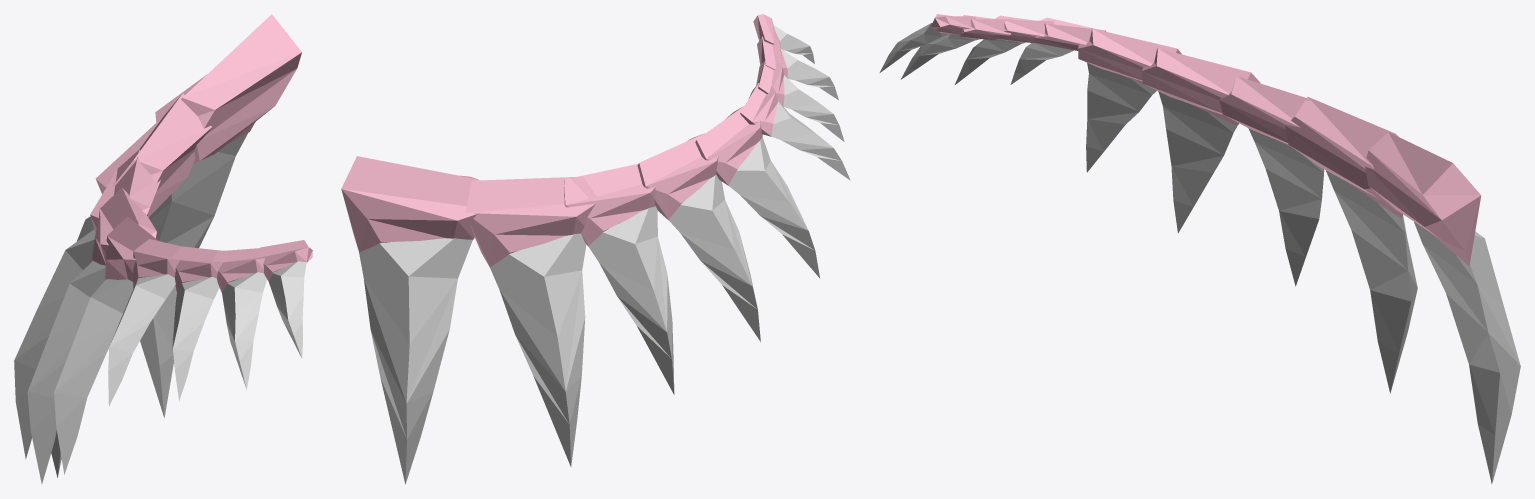
The picture shows the model from 3 angles, left to right: view 1: azimuth 30°, elevation 25°; view 2: azimuth 150°, elevation 25°; view 3: azimuth 270°, elevation 25°; orthographic projection. The views are drawn at different scales.
Visible parts, largest first — view 1: mesh_1035787740, group_1688784022, group_530824527, group_998101702, mesh_46180860, group_1513417120, group_1348373432, group_1527949928, group_1978742188, group_2039307575, mesh_2073799731, mesh_583642357 (+6 smaller); view 2: group_1688784022, group_2041456493, mesh_1035787740, mesh_46180860, group_1513417120, group_998101702, group_530824527, mesh_160464841, mesh_2073799731, mesh_583642357, group_1348373432, group_1527949928 (+5 smaller); view 3: group_1688784022, mesh_1035787740, group_2041456493, mesh_46180860, group_998101702, group_1513417120, mesh_2073799731, group_530824527, mesh_160464841, mesh_583642357, mesh_1518106180, group_1527949928 (+6 smaller).
Part boxes in pixels (bbox=[...]): mesh_1035787740: bbox=[155, 14, 301, 163]; group_1688784022: bbox=[140, 133, 247, 418]; group_530824527: bbox=[54, 279, 133, 474]; group_998101702: bbox=[27, 261, 105, 484]; mesh_46180860: bbox=[95, 93, 211, 217]; group_1513417120: bbox=[14, 229, 95, 459]; group_1348373432: bbox=[108, 274, 175, 406]; group_1527949928: bbox=[172, 277, 219, 401]; group_1978742188: bbox=[222, 272, 266, 389]; group_2039307575: bbox=[269, 261, 306, 358]; mesh_2073799731: bbox=[91, 187, 156, 265]; mesh_583642357: bbox=[105, 216, 158, 281]; group_1688784022: bbox=[359, 238, 472, 484]; group_2041456493: bbox=[490, 233, 586, 467]; mesh_1035787740: bbox=[341, 156, 478, 252]; mesh_46180860: bbox=[465, 176, 597, 267]; group_1513417120: bbox=[588, 206, 674, 394]; group_998101702: bbox=[668, 174, 760, 341]; group_530824527: bbox=[728, 137, 820, 278]; mesh_160464841: bbox=[564, 163, 655, 246]; mesh_2073799731: bbox=[637, 133, 718, 219]; mesh_583642357: bbox=[695, 106, 762, 185]; group_1348373432: bbox=[771, 101, 850, 180]; group_1527949928: bbox=[783, 75, 844, 141]; group_1688784022: bbox=[1414, 222, 1520, 483]; mesh_1035787740: bbox=[1365, 132, 1481, 266]; group_2041456493: bbox=[1326, 170, 1417, 393]; mesh_46180860: bbox=[1285, 96, 1402, 218]; group_998101702: bbox=[1158, 91, 1237, 233]; group_1513417120: bbox=[1248, 128, 1324, 286]; mesh_2073799731: bbox=[1141, 48, 1260, 125]; group_530824527: bbox=[1086, 63, 1156, 172]; mesh_160464841: bbox=[1219, 77, 1312, 148]; mesh_583642357: bbox=[1078, 28, 1181, 84]; mesh_1518106180: bbox=[1034, 17, 1105, 50]; group_1527949928: bbox=[955, 39, 1025, 84].
Size of the model in its own units: 72.31 by 70.68 by 104.
